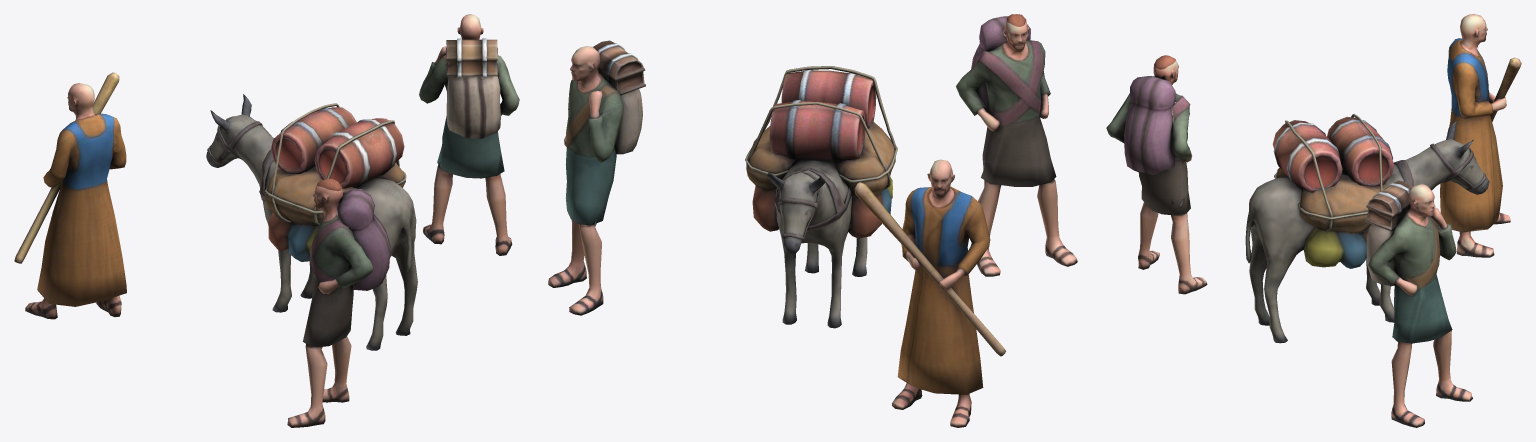
Rendered from Settlers.glb.
3 renders of one model, left to right at view 1: azimuth 30°, elevation 25°; view 2: azimuth 150°, elevation 25°; view 3: azimuth 270°, elevation 25°, orthographic. The views are drawn at different scales.
Visible parts, largest first — view 1: rfvvv; view 2: rfvvv; view 3: rfvvv.
Boxes of the visible parts, x1=… form: rfvvv: x1=14, y1=14, x2=519, y2=427; rfvvv: x1=548, y1=14, x2=1077, y2=427; rfvvv: x1=1106, y1=14, x2=1521, y2=427.
Size of the model in its own units: 7.16 by 3.45 by 5.76.
4 materials, 4 textured.
